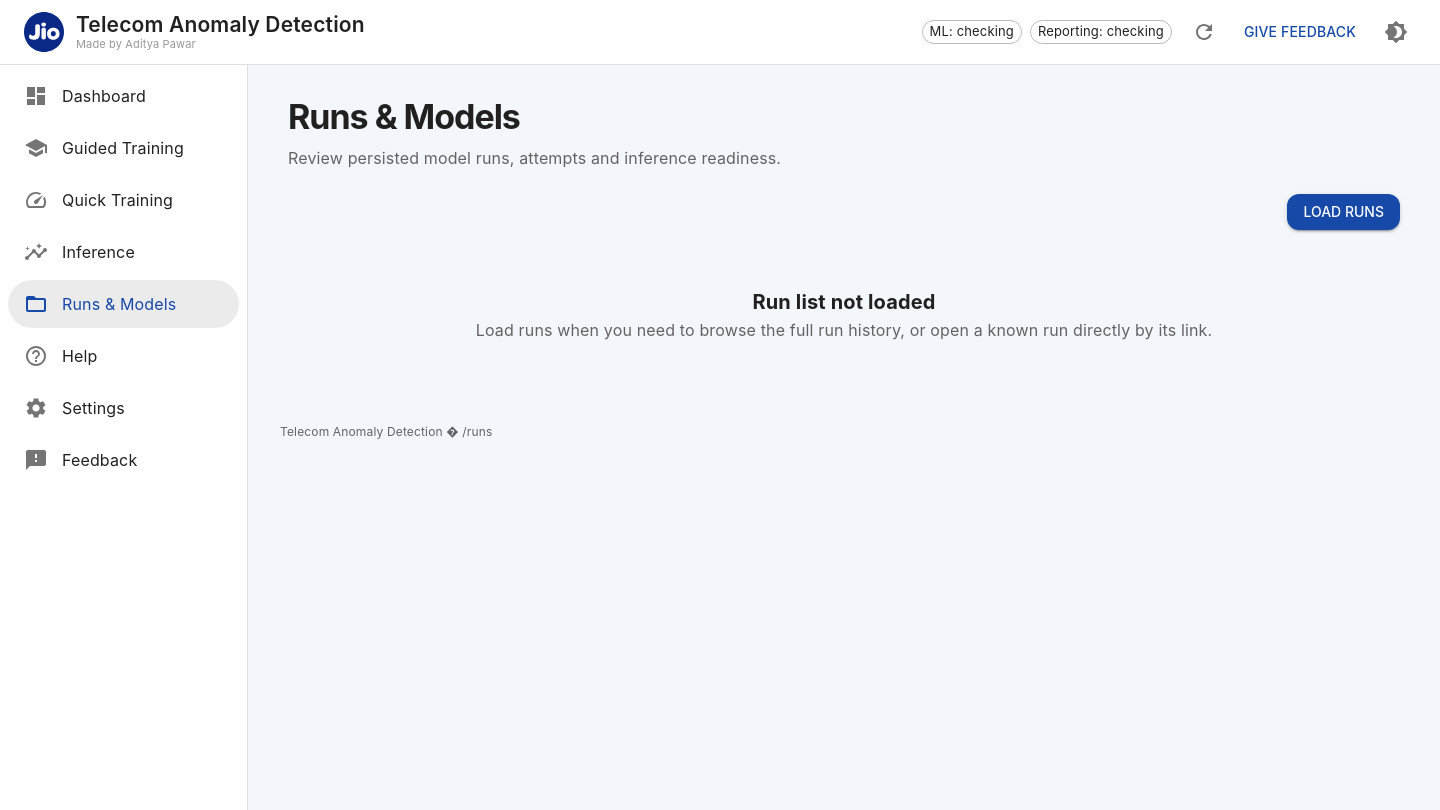
Scenario: Level 1 Runs & Models › renders populated runs and employee metadata
The width and height of the screenshot is (1440, 810).
Click the button "Load runs" at (1344, 212), box [1287,194,1400,230]
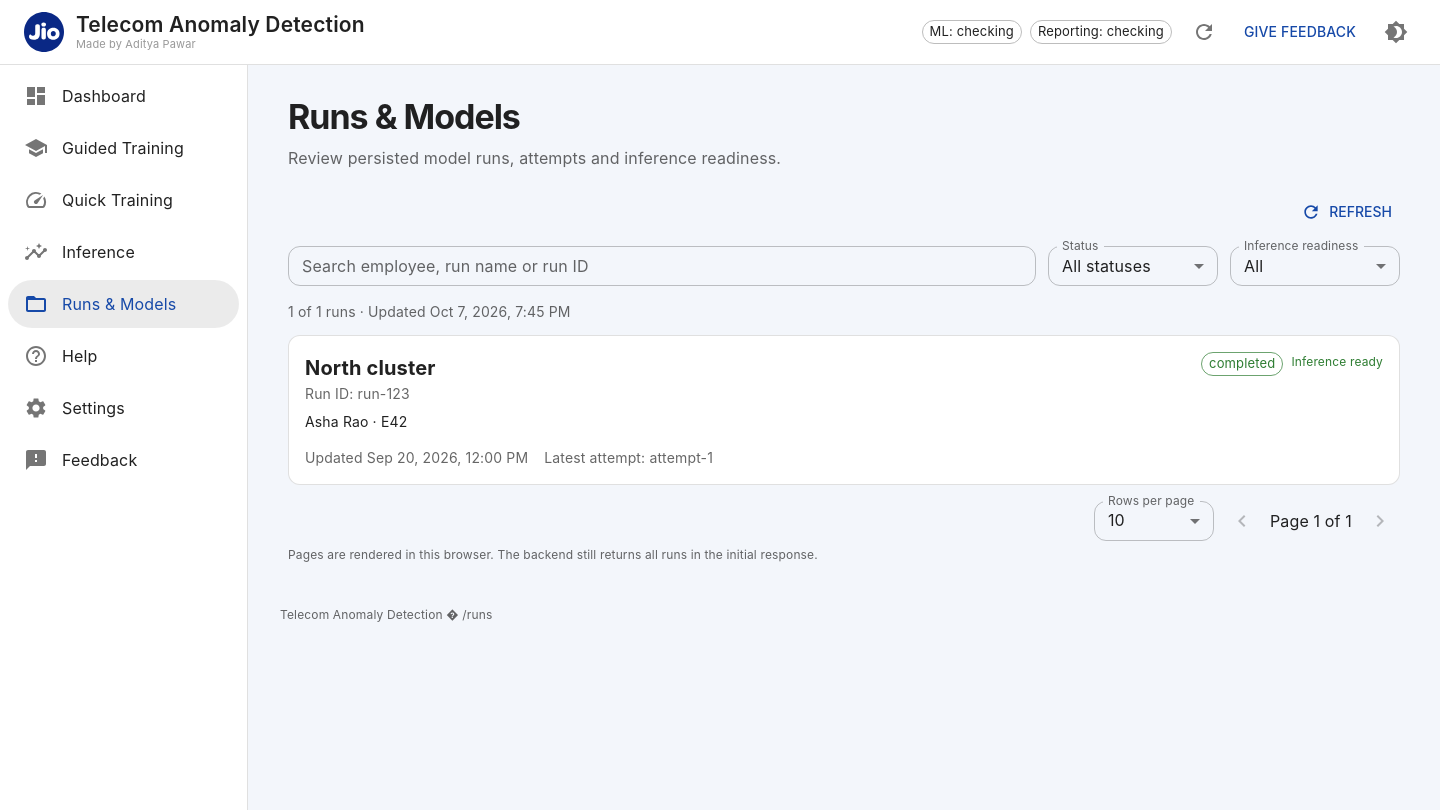
Expected: the heading "North cluster" is shown, [305,352,436,384]
Expected: the text "Asha Rao · E42" is shown, [305,412,407,430]
